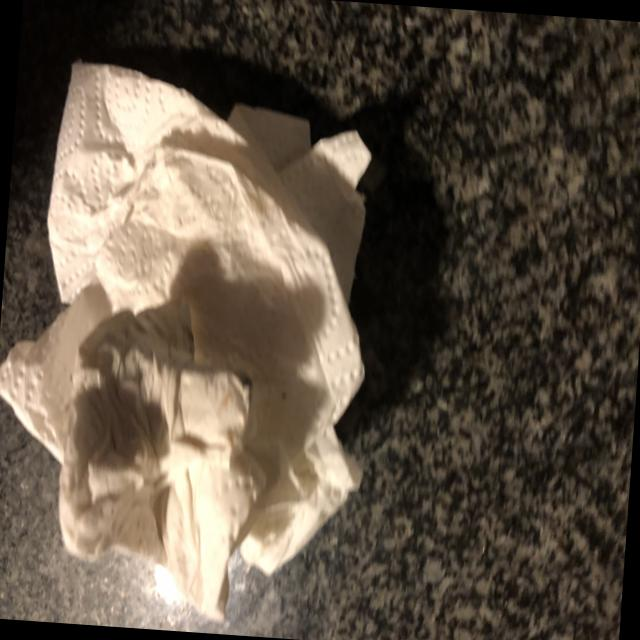organic waste: (0, 52, 399, 640)
